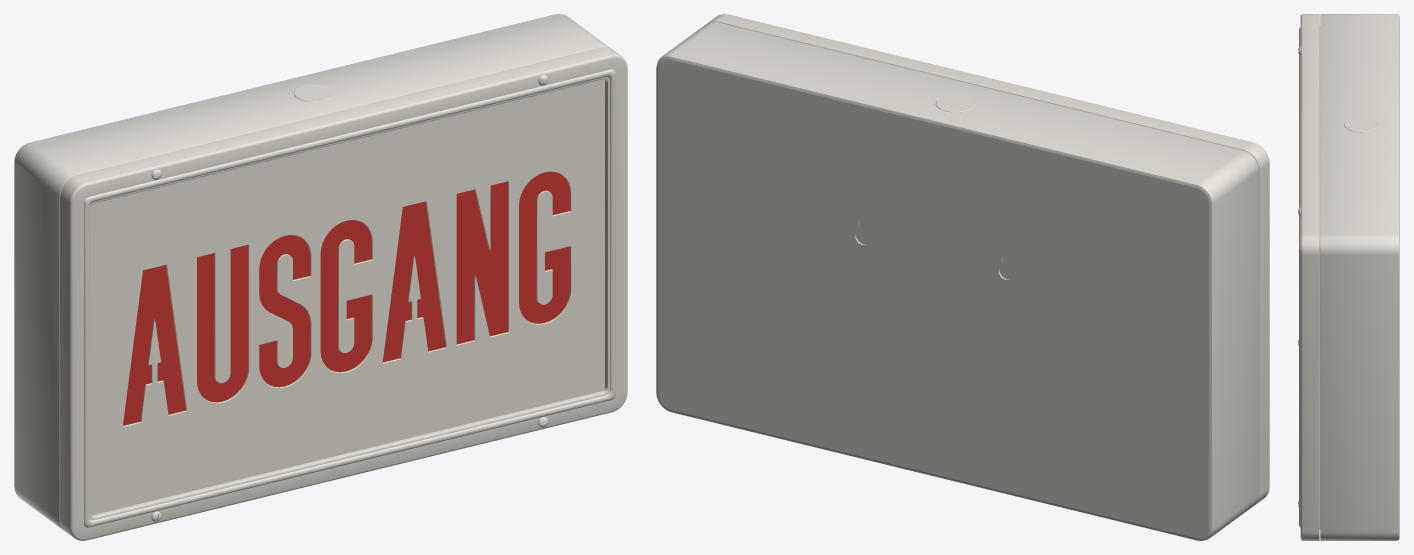
File: Kit_ExitSign.fbx
3 renders of one model, left to right at view 1: azimuth 30°, elevation 25°; view 2: azimuth 150°, elevation 25°; view 3: azimuth 270°, elevation 25°, orthographic. The views are drawn at different scales.
Visible parts, largest first — view 1: Kit_ExitSign_LOD0; view 2: Kit_ExitSign_LOD0; view 3: Kit_ExitSign_LOD0.
Boxes of the visible parts, x1,y1,x2,y2 form: Kit_ExitSign_LOD0: [14, 14, 627, 540]; Kit_ExitSign_LOD0: [656, 14, 1269, 540]; Kit_ExitSign_LOD0: [1298, 14, 1399, 540].
Size of what is drawn, in the model's own units: 0.346 by 0.2124 by 0.0639.
